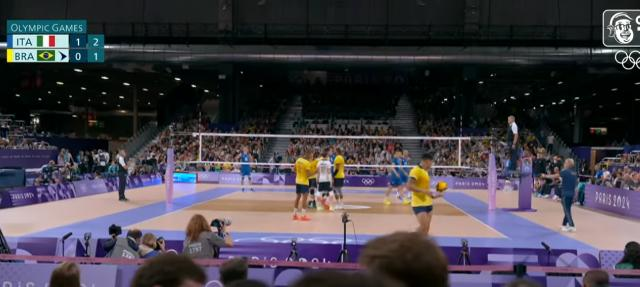Libero: (318, 152, 334, 214)
bola: (434, 180, 448, 196)
